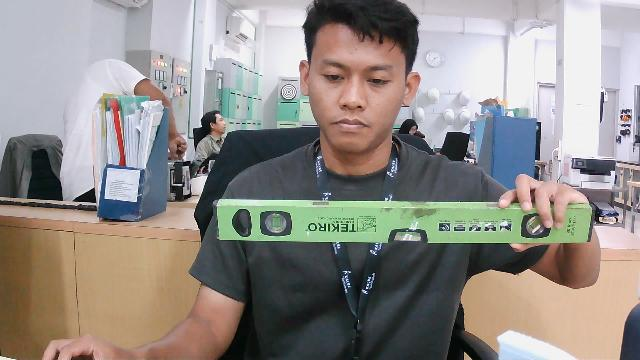water_pass: (211, 192, 606, 262)
